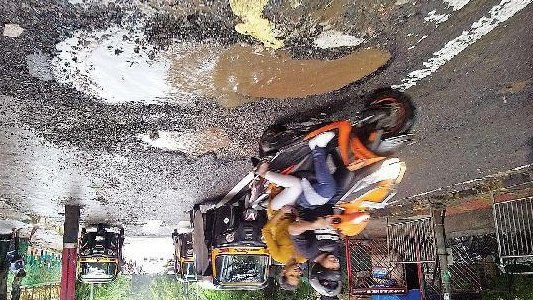pothole: (45, 28, 398, 110), (131, 126, 234, 163)
